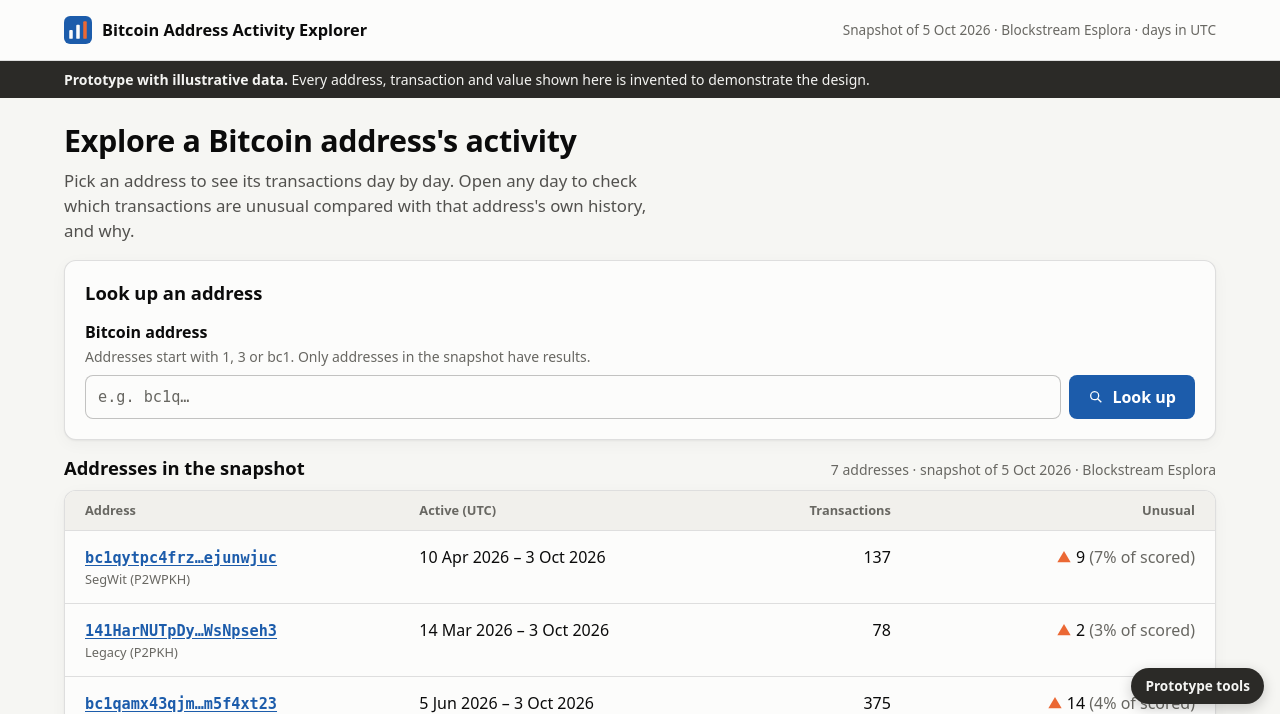
Test: usability walkthrough tasks › 1. open a sample address: timeline with date range and source (AC-01)
Click the link "bc1qytpc4frz…ejunwjuc" at {"x": 181, "y": 558}, box [85,549,277,567]
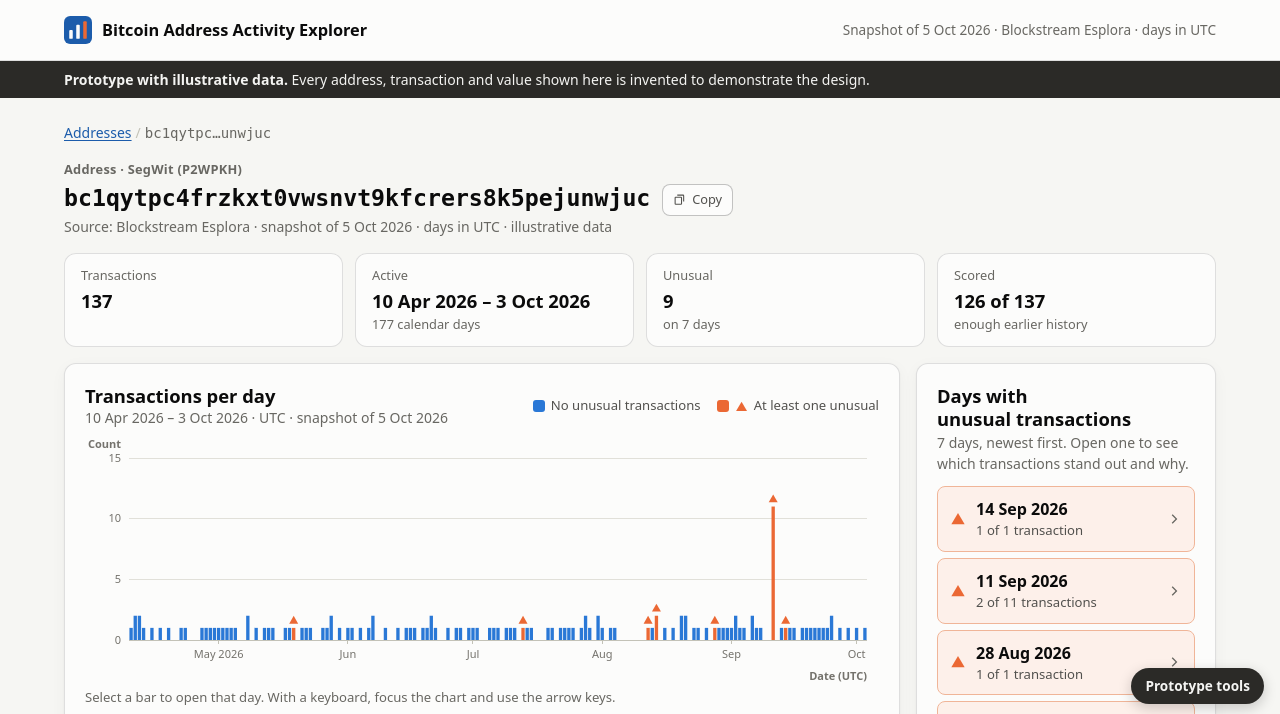
Expected: the heading "bc1qytpc4frzkxt0vwsnvt9kfcrers8k5pejunwjuc" is shown, [64,183,650,212]
Expected: the text "Source: Blockstream Esplora · snapshot of 5 Oct 2026" is shown, [64,217,612,236]
Expected: the heading "Transactions per day" is shown, [85,383,275,408]
